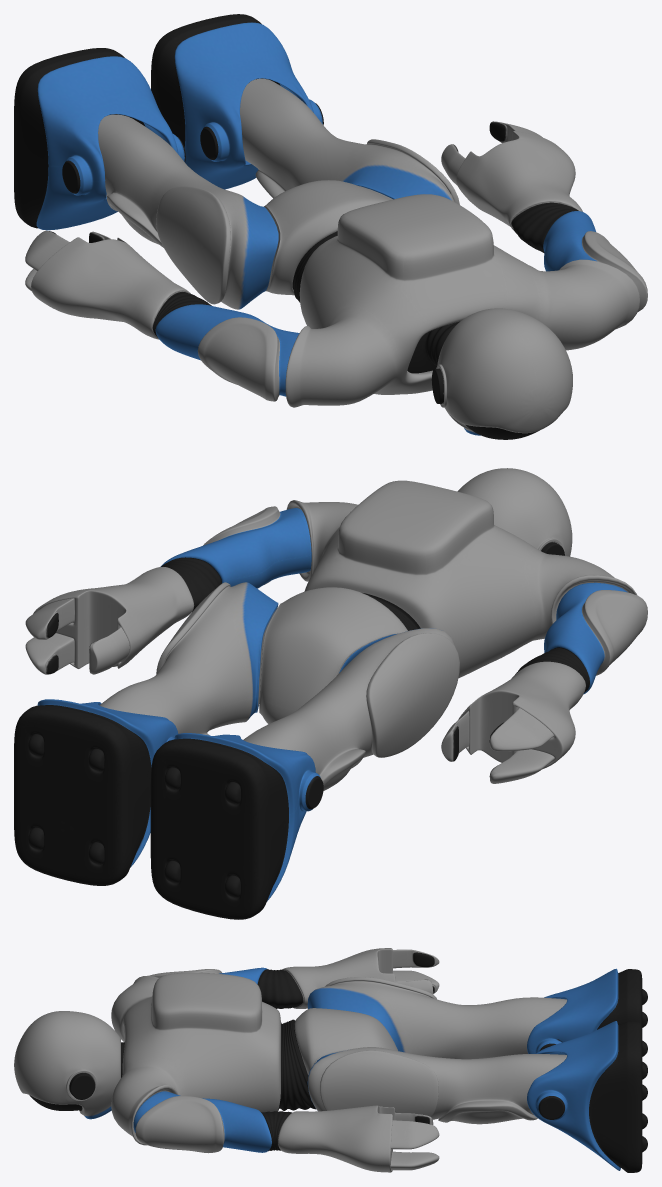
The model's file is 12210_robot_v1_L3.obj.
3 renders of one model, top to bottom at view 1: azimuth 30°, elevation 25°; view 2: azimuth 150°, elevation 25°; view 3: azimuth 270°, elevation 25°, orthographic. The views are drawn at different scales.
Visible parts, largest first — view 1: 12210_Robot; view 2: 12210_Robot; view 3: 12210_Robot.
Part boxes in pixels (x1,y1,x2,y2): 12210_Robot: [14, 14, 647, 439]; 12210_Robot: [14, 468, 647, 919]; 12210_Robot: [14, 948, 647, 1172].
Bounding box in the file's own units: 19.85 × 6.74 × 26.35.
Materials: 1 (1 with a texture image).
